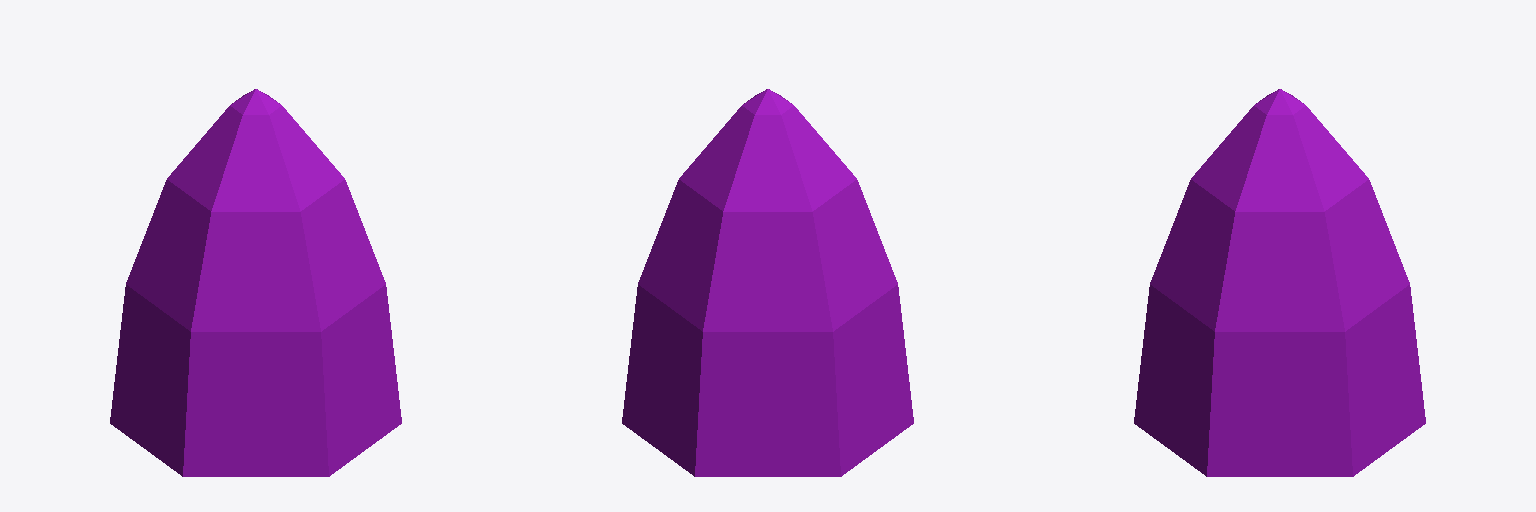
The model's file is boostthing.obj.
3 views of the same model, side by side, from view 1: azimuth 30°, elevation 25°; view 2: azimuth 150°, elevation 25°; view 3: azimuth 270°, elevation 25° (orthographic).
Visible parts, largest first — view 1: Cylinder; view 2: Cylinder; view 3: Cylinder.
Boxes of the visible parts, box(x1,y1,x2,y2) form: Cylinder: box(110, 89, 401, 476); Cylinder: box(622, 89, 913, 476); Cylinder: box(1134, 89, 1425, 476).
Size of the model in its own units: 1.73 by 2.53 by 2.